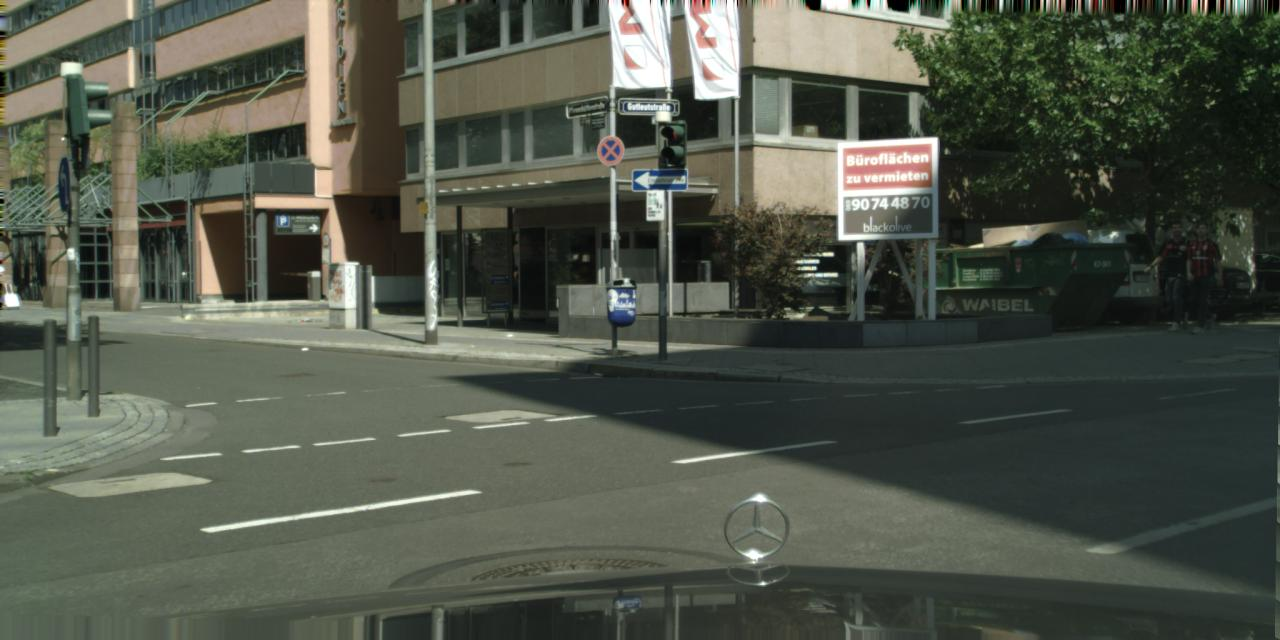ped: (1153, 220, 1199, 332), (1180, 220, 1224, 329)
